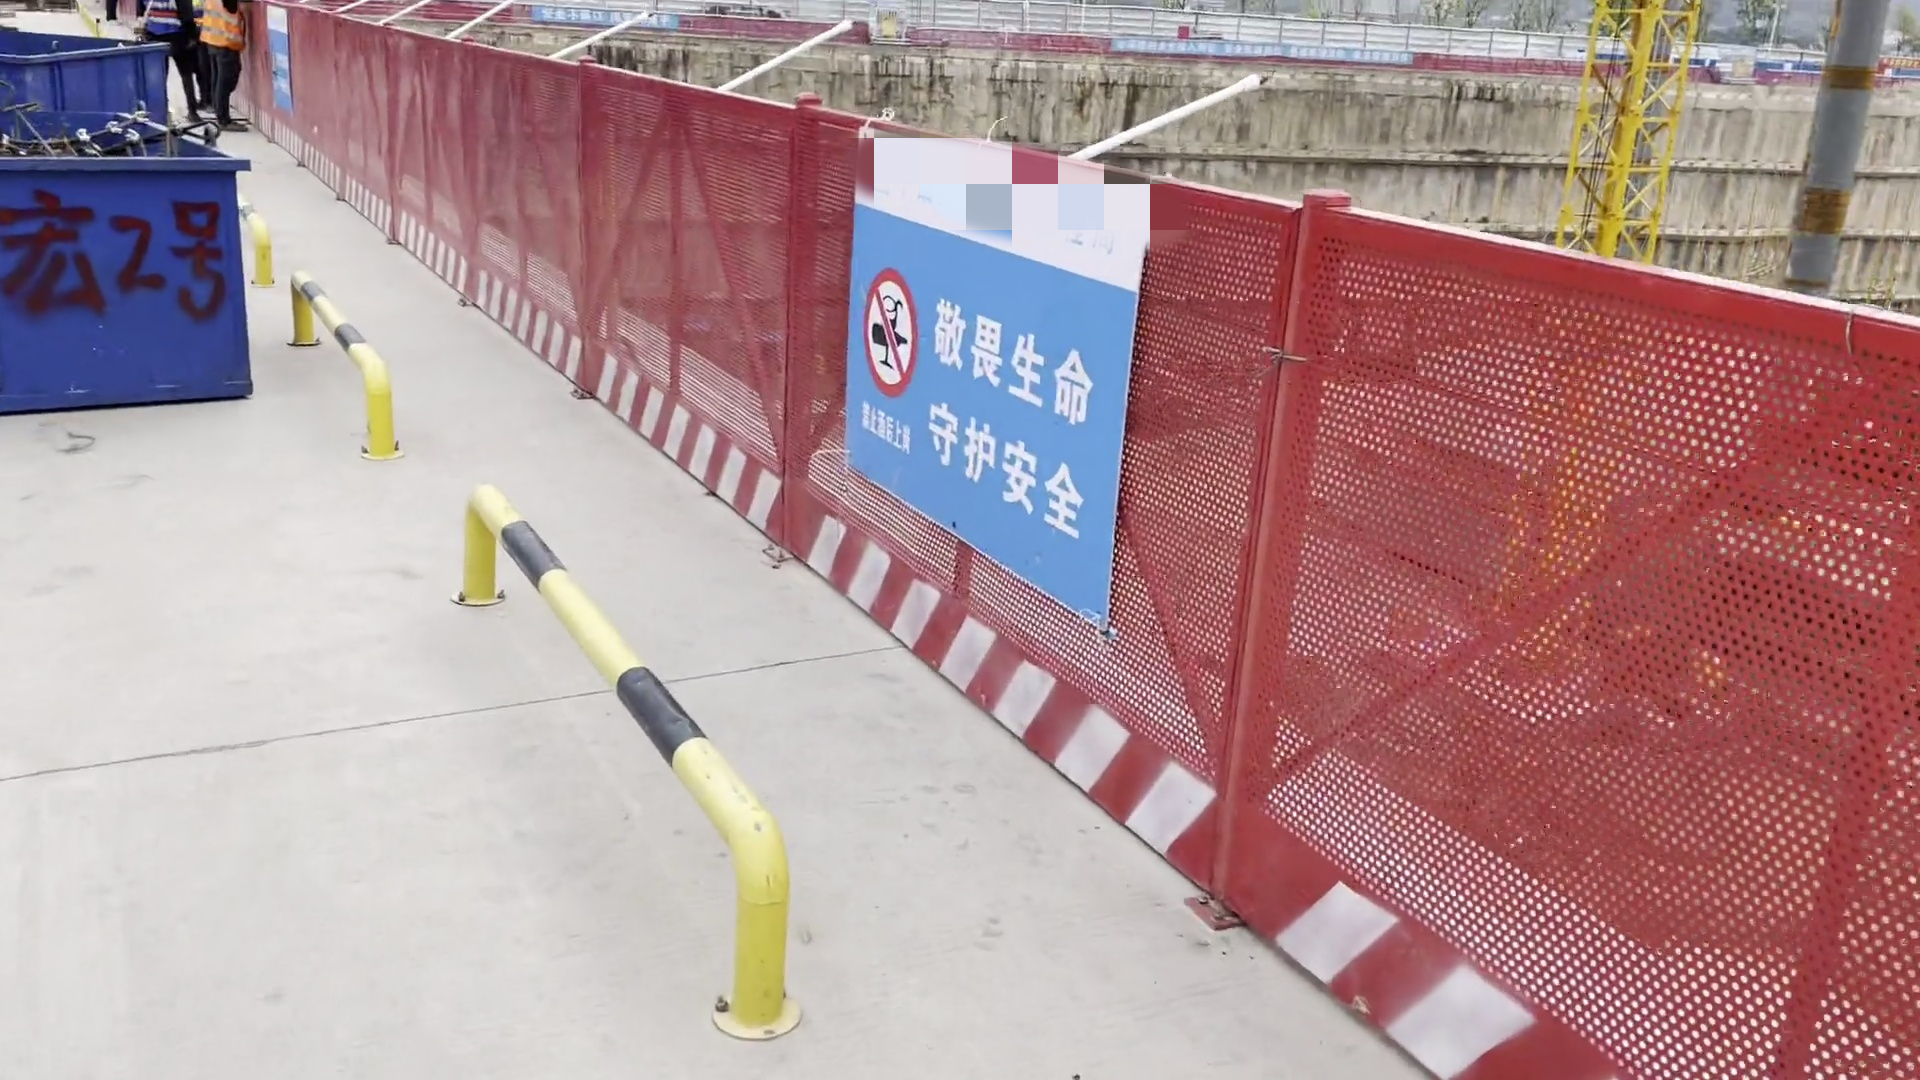fence: (252, 3, 1920, 1073), (375, 13, 1858, 88)
hopper: (1, 123, 260, 415), (1, 30, 200, 135)
vest: (196, 1, 244, 53), (137, 1, 187, 40)
